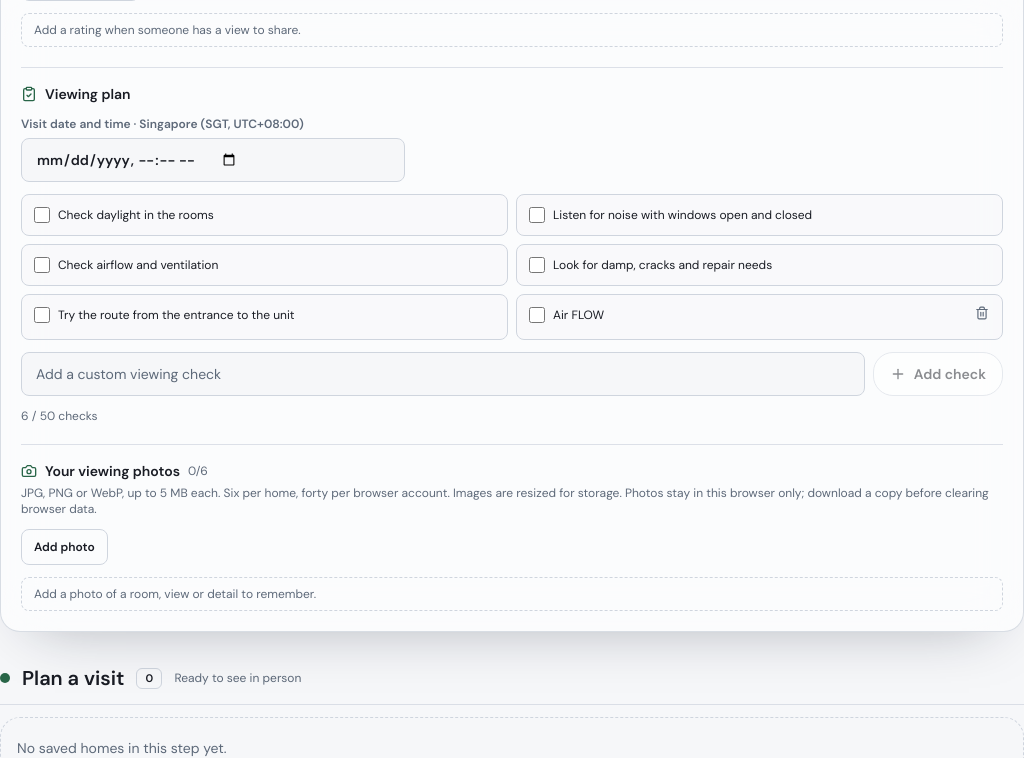
Scenario: shows duplicate feedback and explicit photo guidance
(page scrolled)
Type "air flow" into the field named "New checklist item for Example home". click: coordinates (443, 374)
box: [21,352,865,396]
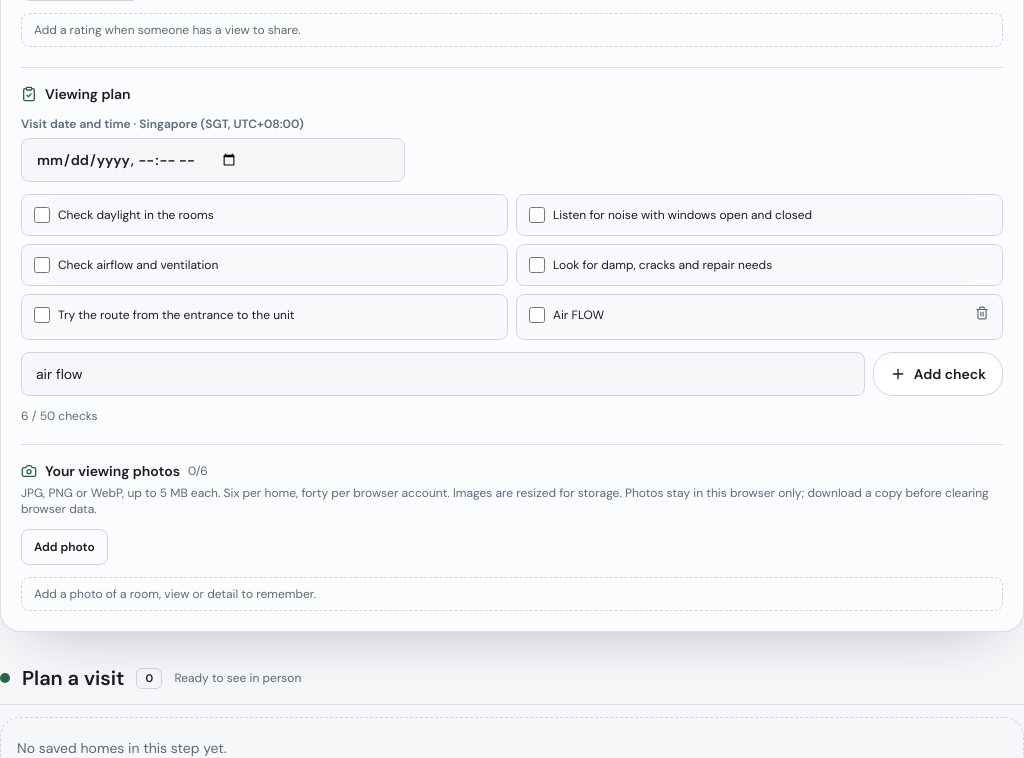
Click the button "Add check". click: coordinates (938, 374)
box: [873,352,1003,396]
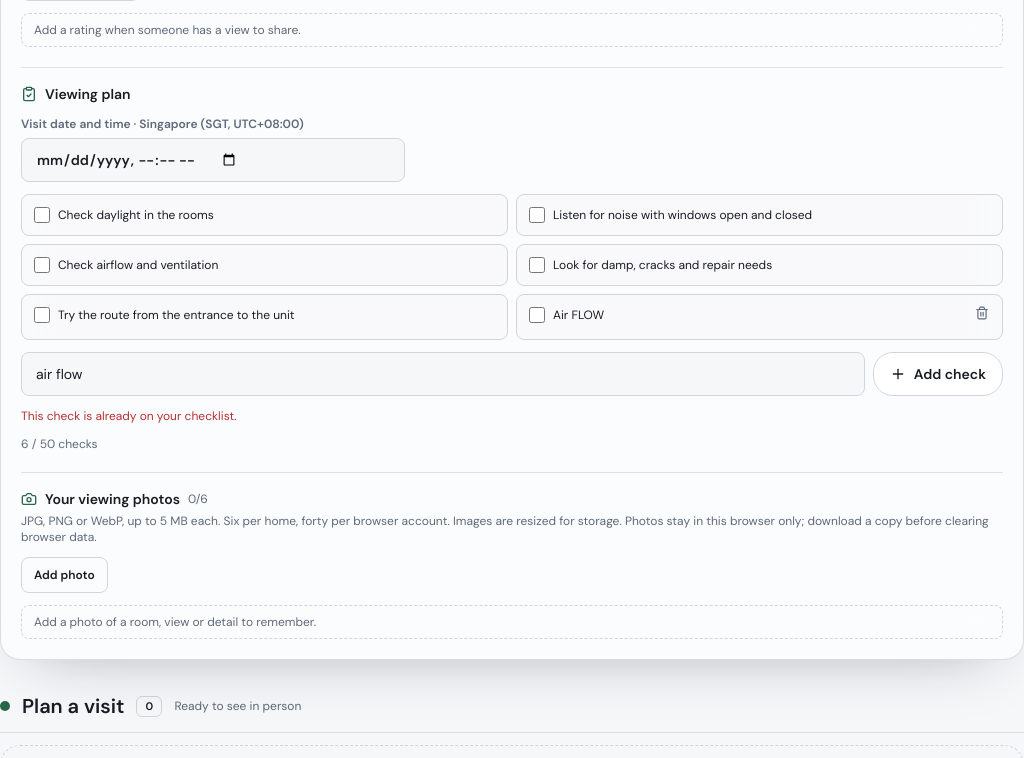
Expected: the text "JPG, PNG or WebP" is shown, [21,513,989,545]
Expected: the message shows "already", [21,408,236,424]
